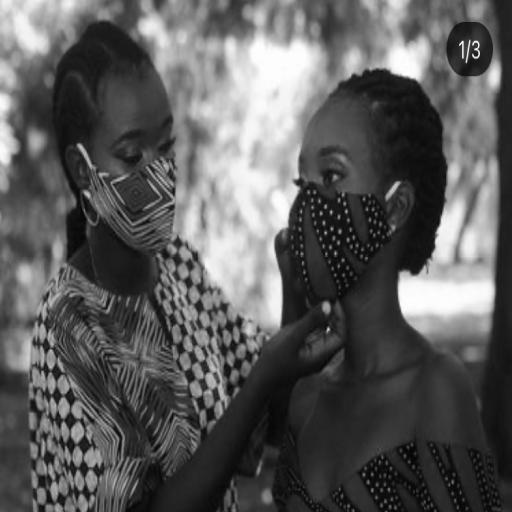mask: (287, 86, 392, 305), (80, 66, 177, 258)
